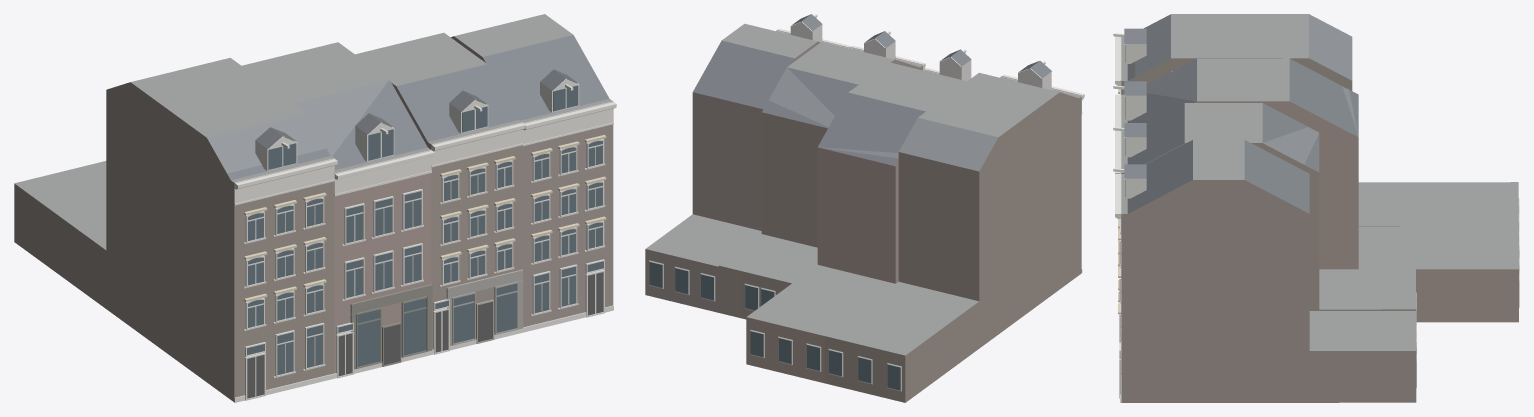
Rendered from chunk-face-campen-2-34-r2.glb.
3 views of the same model, side by side, from view 1: azimuth 30°, elevation 25°; view 2: azimuth 150°, elevation 25°; view 3: azimuth 270°, elevation 25° (orthographic). The views are drawn at different scales.
Parts seen in each view (by area): view 1: face-campen-2-34-r2; view 2: face-campen-2-34-r2; view 3: face-campen-2-34-r2.
Boxes of the visible parts, x1,y1,x2,y2 form: face-campen-2-34-r2: [14, 14, 616, 402]; face-campen-2-34-r2: [645, 14, 1084, 402]; face-campen-2-34-r2: [1113, 14, 1519, 402].
Size of the model in its own units: 25.05 by 15.95 by 25.65.
